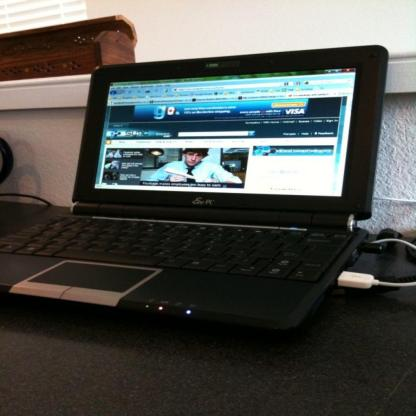board: (0, 55, 403, 336)
